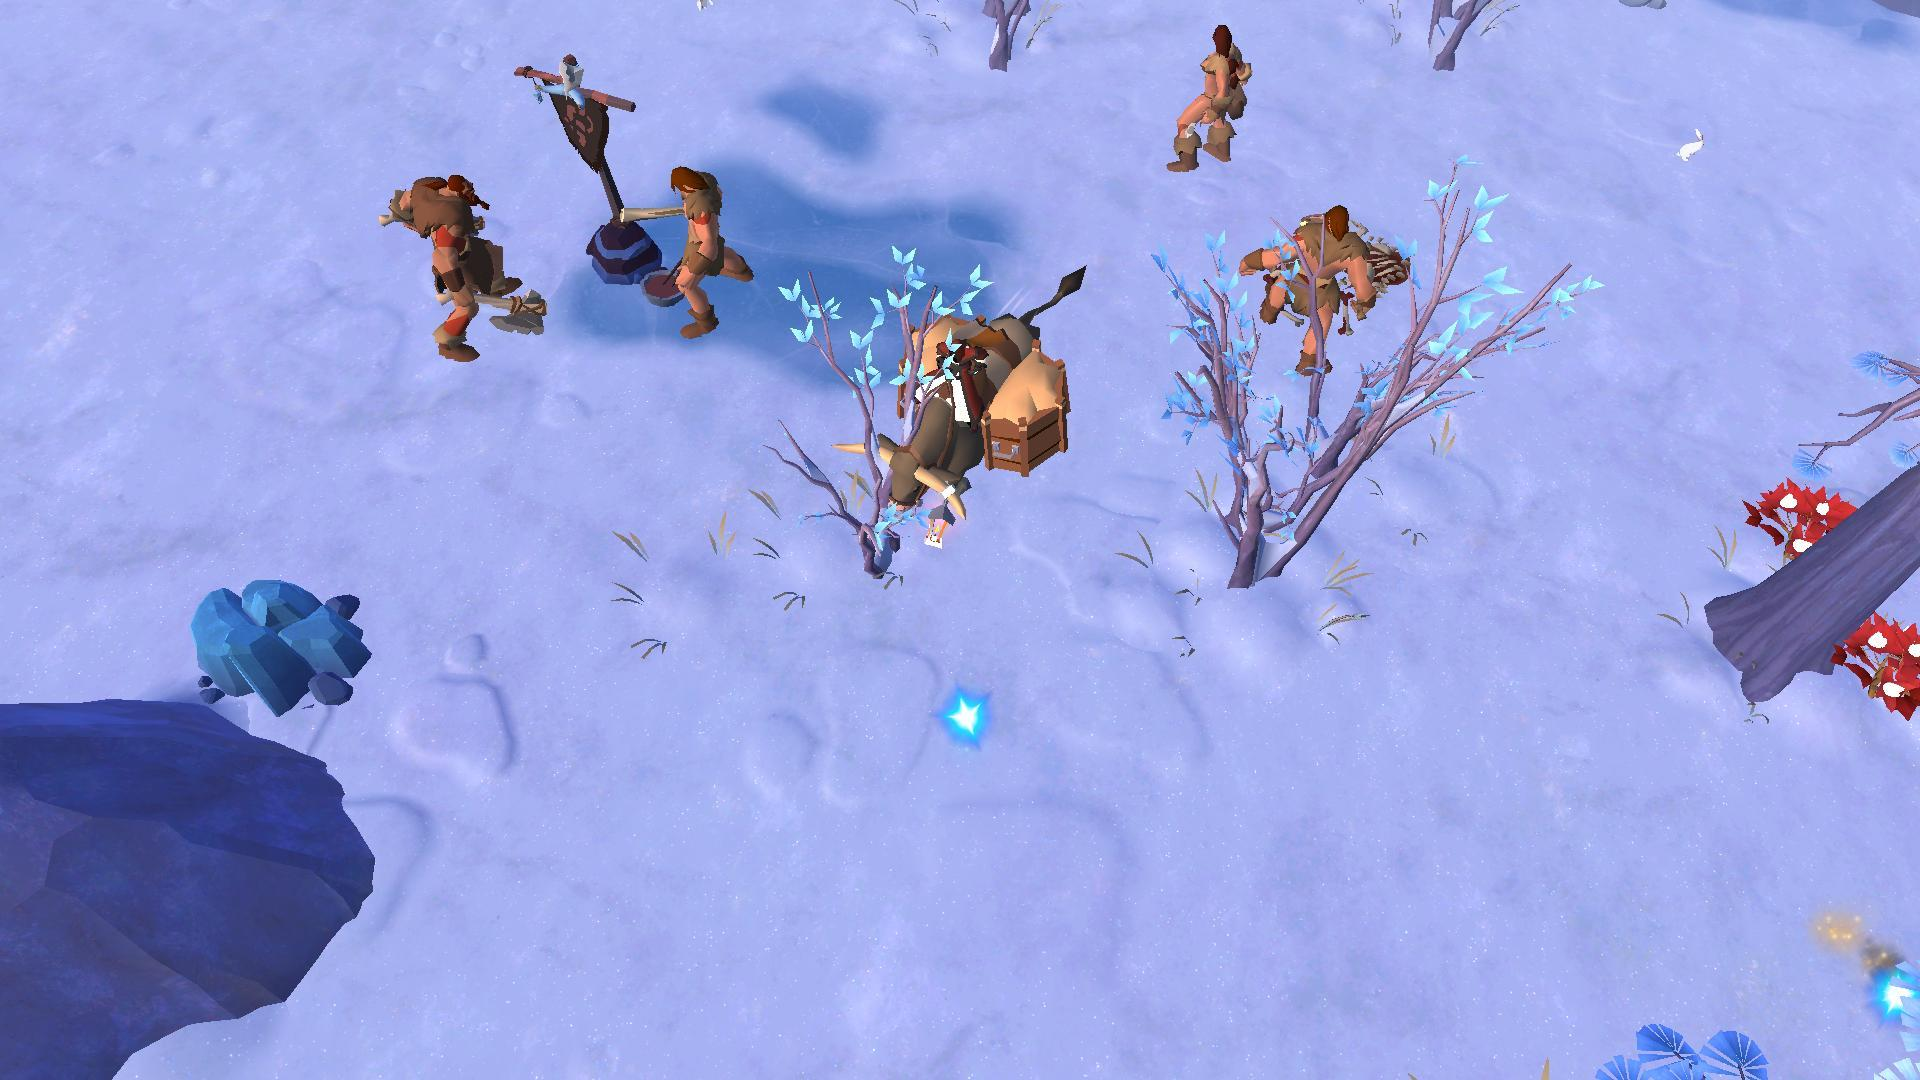enemy_factionKeeper: (375, 167, 549, 356), (640, 153, 764, 336), (1242, 194, 1374, 363), (1160, 22, 1253, 165)
fiber_t5: (1745, 479, 1867, 568), (1833, 615, 1920, 724)
rock_t4: (179, 566, 377, 716)
